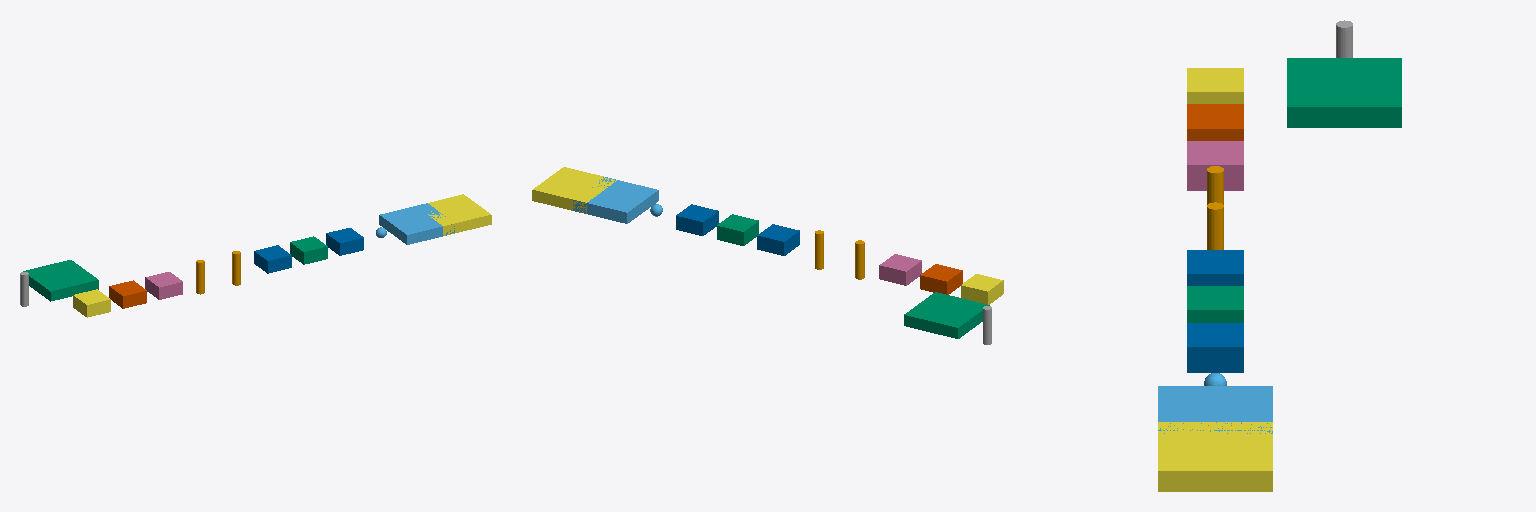
robot.urdf — self_adjustable_gear_train_transmission:
<?xml version="1.0" ?>
<robot name="self_adjustable_gear_train_transmission">
  <link name="drive_shaft">
    <visual>
      <geometry>
        <cylinder radius="0.006" length="0.05"/>
      </geometry>
    </visual>
  </link>
  <link name="driven_machine">
    <visual>
      <geometry>
        <sphere radius="0.008"/>
      </geometry>
    </visual>
  </link>
  <link name="frame_1">
    <visual>
      <geometry>
        <box size="0.08 0.08 0.016"/>
      </geometry>
    </visual>
  </link>
  <link name="frame_2">
    <visual>
      <geometry>
        <box size="0.08 0.08 0.016"/>
      </geometry>
    </visual>
  </link>
  <link name="gear">
    <visual>
      <geometry>
        <box size="0.04 0.04 0.02"/>
      </geometry>
    </visual>
  </link>
  <link name="gear_train_1">
    <visual>
      <geometry>
        <box size="0.04 0.04 0.02"/>
      </geometry>
    </visual>
  </link>
  <link name="gear_train_2">
    <visual>
      <geometry>
        <box size="0.04 0.04 0.02"/>
      </geometry>
    </visual>
  </link>
  <link name="intermediate_shaft_1">
    <visual>
      <geometry>
        <cylinder radius="0.006" length="0.05"/>
      </geometry>
    </visual>
  </link>
  <link name="intermediate_shaft_2">
    <visual>
      <geometry>
        <cylinder radius="0.006" length="0.05"/>
      </geometry>
    </visual>
  </link>
  <link name="pair_of_frames">
    <visual>
      <geometry>
        <box size="0.08 0.08 0.016"/>
      </geometry>
    </visual>
  </link>
  <link name="pinion">
    <visual>
      <geometry>
        <box size="0.04 0.04 0.02"/>
      </geometry>
    </visual>
  </link>
  <link name="transmission">
    <visual>
      <geometry>
        <box size="0.04 0.04 0.02"/>
      </geometry>
    </visual>
  </link>
  <link name="transmission_stage">
    <visual>
      <geometry>
        <box size="0.04 0.04 0.02"/>
      </geometry>
    </visual>
  </link>
  <joint name="_attach_frame_1_to_frame_2" type="fixed">
    <parent link="frame_1"/>
    <child link="frame_2"/>
    <origin xyz="0.6000 -0.0900 0.0000" rpy="0 0 0"/>
  </joint>
  <joint name="_attach_frame_2_to_intermediate_shaft_2" type="fixed">
    <parent link="frame_2"/>
    <child link="intermediate_shaft_2"/>
    <origin xyz="-0.4200 0.0000 0.0000" rpy="0 0 0"/>
  </joint>
  <joint name="_attach_intermediate_shaft_1_to_drive_shaft" type="fixed">
    <parent link="intermediate_shaft_1"/>
    <child link="drive_shaft"/>
    <origin xyz="0.3000 -0.0900 0.0000" rpy="0 0 0"/>
  </joint>
  <joint name="_attach_intermediate_shaft_1_to_driven_machine" type="fixed">
    <parent link="intermediate_shaft_1"/>
    <child link="driven_machine"/>
    <origin xyz="0.5400 -0.0900 0.0000" rpy="0 0 0"/>
  </joint>
  <joint name="_attach_intermediate_shaft_1_to_frame_1" type="fixed">
    <parent link="intermediate_shaft_1"/>
    <child link="frame_1"/>
    <origin xyz="0.0600 0.0000 0.0000" rpy="0 0 0"/>
  </joint>
  <joint name="_attach_intermediate_shaft_1_to_gear" type="fixed">
    <parent link="intermediate_shaft_1"/>
    <child link="gear"/>
    <origin xyz="0.4800 -0.0900 0.0000" rpy="0 0 0"/>
  </joint>
  <joint name="_attach_intermediate_shaft_1_to_gear_train_1" type="fixed">
    <parent link="intermediate_shaft_1"/>
    <child link="gear_train_1"/>
    <origin xyz="0.1200 -0.0900 0.0000" rpy="0 0 0"/>
  </joint>
  <joint name="_attach_intermediate_shaft_1_to_gear_train_2" type="fixed">
    <parent link="intermediate_shaft_1"/>
    <child link="gear_train_2"/>
    <origin xyz="0.1800 -0.0900 0.0000" rpy="0 0 0"/>
  </joint>
  <joint name="_attach_intermediate_shaft_1_to_pair_of_frames" type="fixed">
    <parent link="intermediate_shaft_1"/>
    <child link="pair_of_frames"/>
    <origin xyz="0.6000 -0.0900 0.0000" rpy="0 0 0"/>
  </joint>
  <joint name="_attach_intermediate_shaft_1_to_pinion" type="fixed">
    <parent link="intermediate_shaft_1"/>
    <child link="pinion"/>
    <origin xyz="0.4200 -0.0900 0.0000" rpy="0 0 0"/>
  </joint>
  <joint name="_attach_intermediate_shaft_1_to_transmission" type="fixed">
    <parent link="intermediate_shaft_1"/>
    <child link="transmission"/>
    <origin xyz="0.0600 -0.0900 0.0000" rpy="0 0 0"/>
  </joint>
  <joint name="_attach_intermediate_shaft_1_to_transmission_stage" type="fixed">
    <parent link="intermediate_shaft_1"/>
    <child link="transmission_stage"/>
    <origin xyz="0.3600 -0.0900 0.0000" rpy="0 0 0"/>
  </joint>
</robot>

--- What the picture shows (computed from the rendered views, not written in the file) ---
The picture shows the robot from 3 angles, left to right: view 1: azimuth 30°, elevation 25°; view 2: azimuth 150°, elevation 25°; view 3: azimuth 270°, elevation 25°; orthographic projection.
Model self_adjustable_gear_train_transmission with 13 links and 12 joints (12 fixed), rooted at intermediate_shaft_1, posed every joint at zero.
Visible links, largest first — view 1: frame_1, pair_of_frames, frame_2, transmission_stage, transmission, gear_train_2, pinion, gear, gear_train_1; view 2: frame_1, pair_of_frames, frame_2, transmission_stage, gear, gear_train_2, pinion, gear_train_1, transmission; view 3: frame_1, frame_2, pair_of_frames, gear, gear_train_2, gear_train_1, pinion, transmission, transmission_stage, drive_shaft, intermediate_shaft_1, intermediate_shaft_2.
Boxes of the visible links, left/top/right/bottom form: frame_1: left=23, top=260, right=98, bottom=301; pair_of_frames: left=379, top=203, right=454, bottom=244; frame_2: left=428, top=194, right=491, bottom=235; transmission_stage: left=254, top=245, right=291, bottom=273; transmission: left=73, top=289, right=110, bottom=317; gear_train_2: left=145, top=272, right=182, bottom=299; pinion: left=290, top=236, right=327, bottom=264; gear: left=326, top=228, right=363, bottom=255; gear_train_1: left=109, top=280, right=146, bottom=308; frame_1: left=904, top=292, right=989, bottom=338; pair_of_frames: left=573, top=177, right=658, bottom=223; frame_2: left=532, top=167, right=616, bottom=213; transmission_stage: left=757, top=224, right=799, bottom=255; gear: left=676, top=204, right=718, bottom=235; gear_train_2: left=879, top=254, right=921, bottom=285; pinion: left=717, top=214, right=758, bottom=245; gear_train_1: left=920, top=264, right=962, bottom=294; transmission: left=961, top=274, right=1003, bottom=304; frame_1: left=1287, top=58, right=1401, bottom=127; frame_2: left=1158, top=422, right=1272, bottom=491; pair_of_frames: left=1158, top=386, right=1272, bottom=433; gear: left=1187, top=323, right=1243, bottom=372; gear_train_2: left=1187, top=141, right=1243, bottom=190; gear_train_1: left=1187, top=104, right=1243, bottom=140; pinion: left=1187, top=286, right=1243, bottom=322; transmission: left=1187, top=68, right=1243, bottom=103; transmission_stage: left=1187, top=250, right=1243, bottom=285; drive_shaft: left=1207, top=202, right=1223, bottom=249; intermediate_shaft_1: left=1336, top=20, right=1352, bottom=57; intermediate_shaft_2: left=1207, top=166, right=1223, bottom=204.
Bounding box of the posed robot: 0.706 × 0.17 × 0.05 m (x, y, z).
Geometry: primitives only (box / cylinder / sphere), no mesh files.
